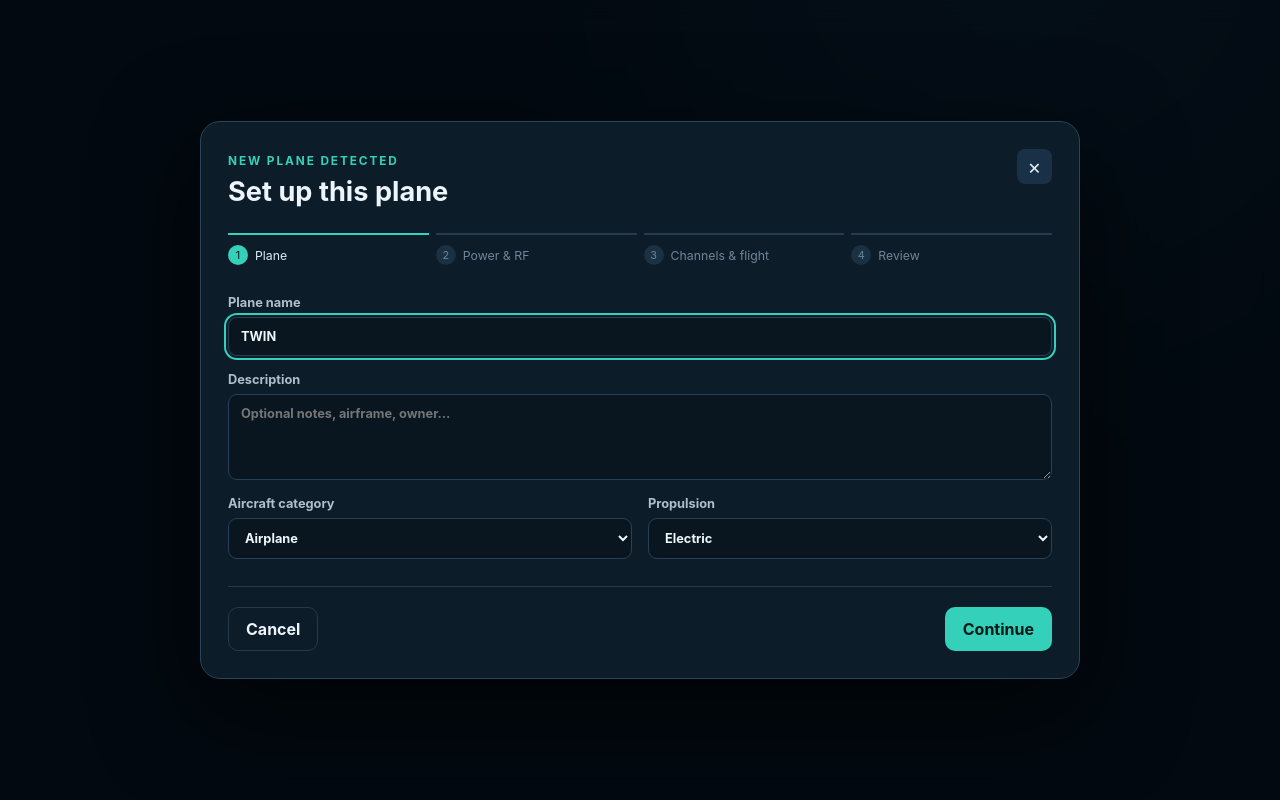
Test: new plane wizard › defaults battery quantities to one and adds independently configured banks
The image size is (1280, 800).
Click the button "Continue". click: (998, 629)
box: [945,607,1052,651]
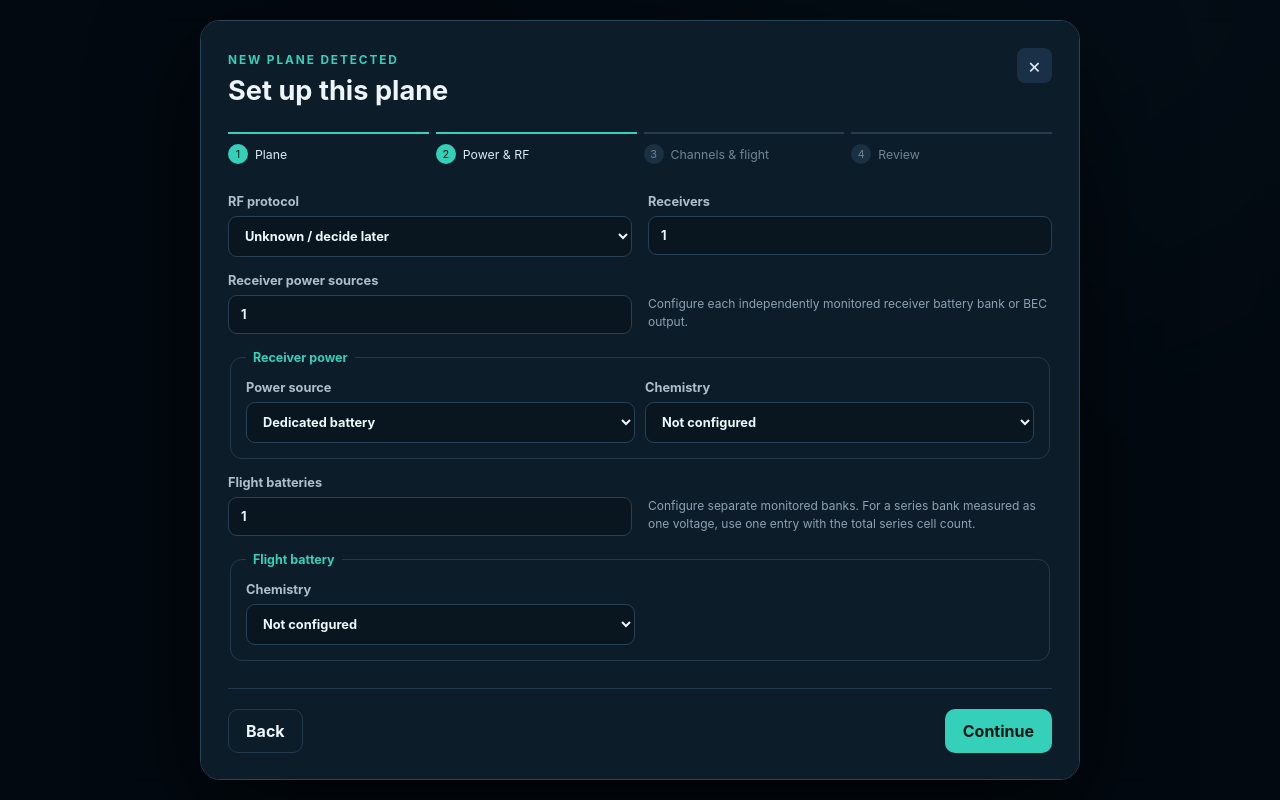
Expected: the number field labelled "Receiver power sources" holds "1"
Expected: the number field labelled "Flight batteries" holds "1", [228,497,632,536]
Replace the text in the number field labelled "Receiver power sources" with "2". click: (430, 314)
box: [228,295,632,334]
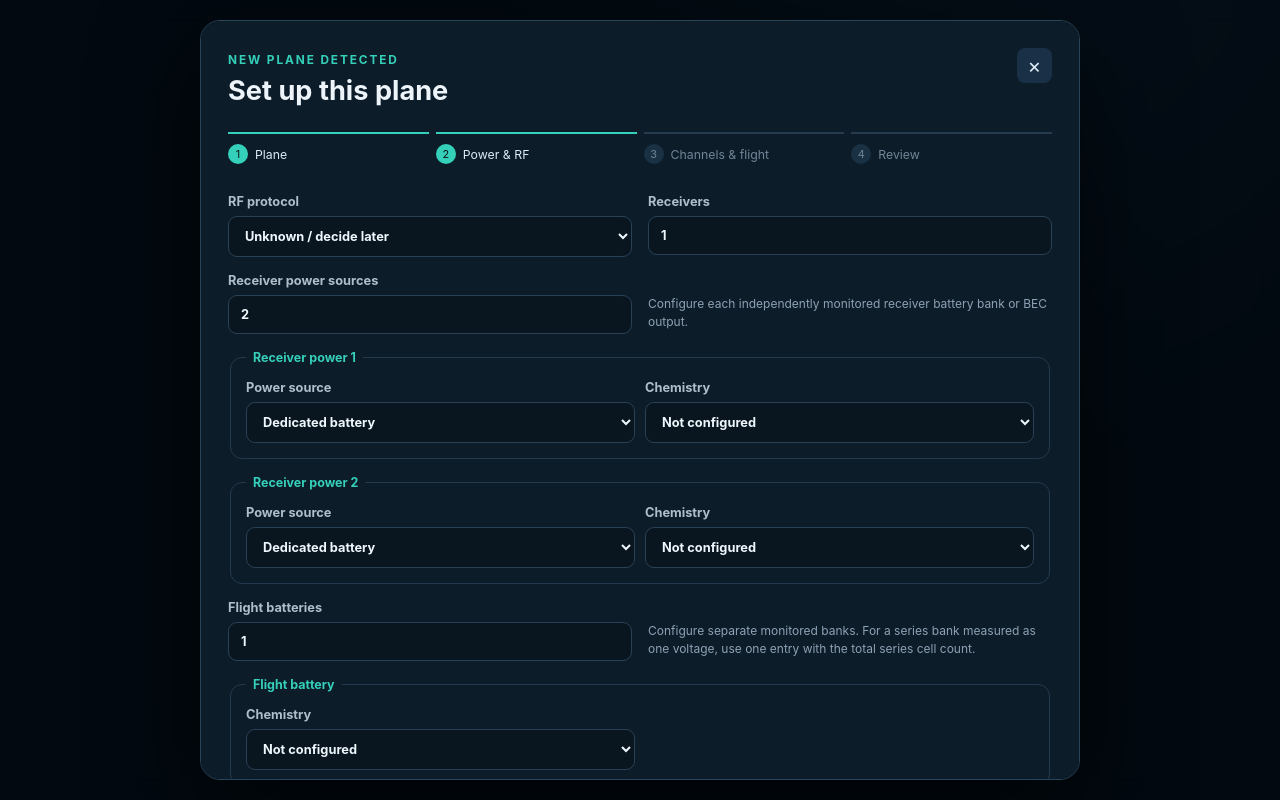
Expected: the element "Receiver power 1" is shown, [230,350,1050,459]
Expected: the element "Receiver power 2" is shown, [230,475,1050,584]
